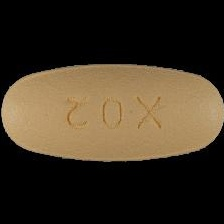43063-617: (0, 0, 224, 224)
